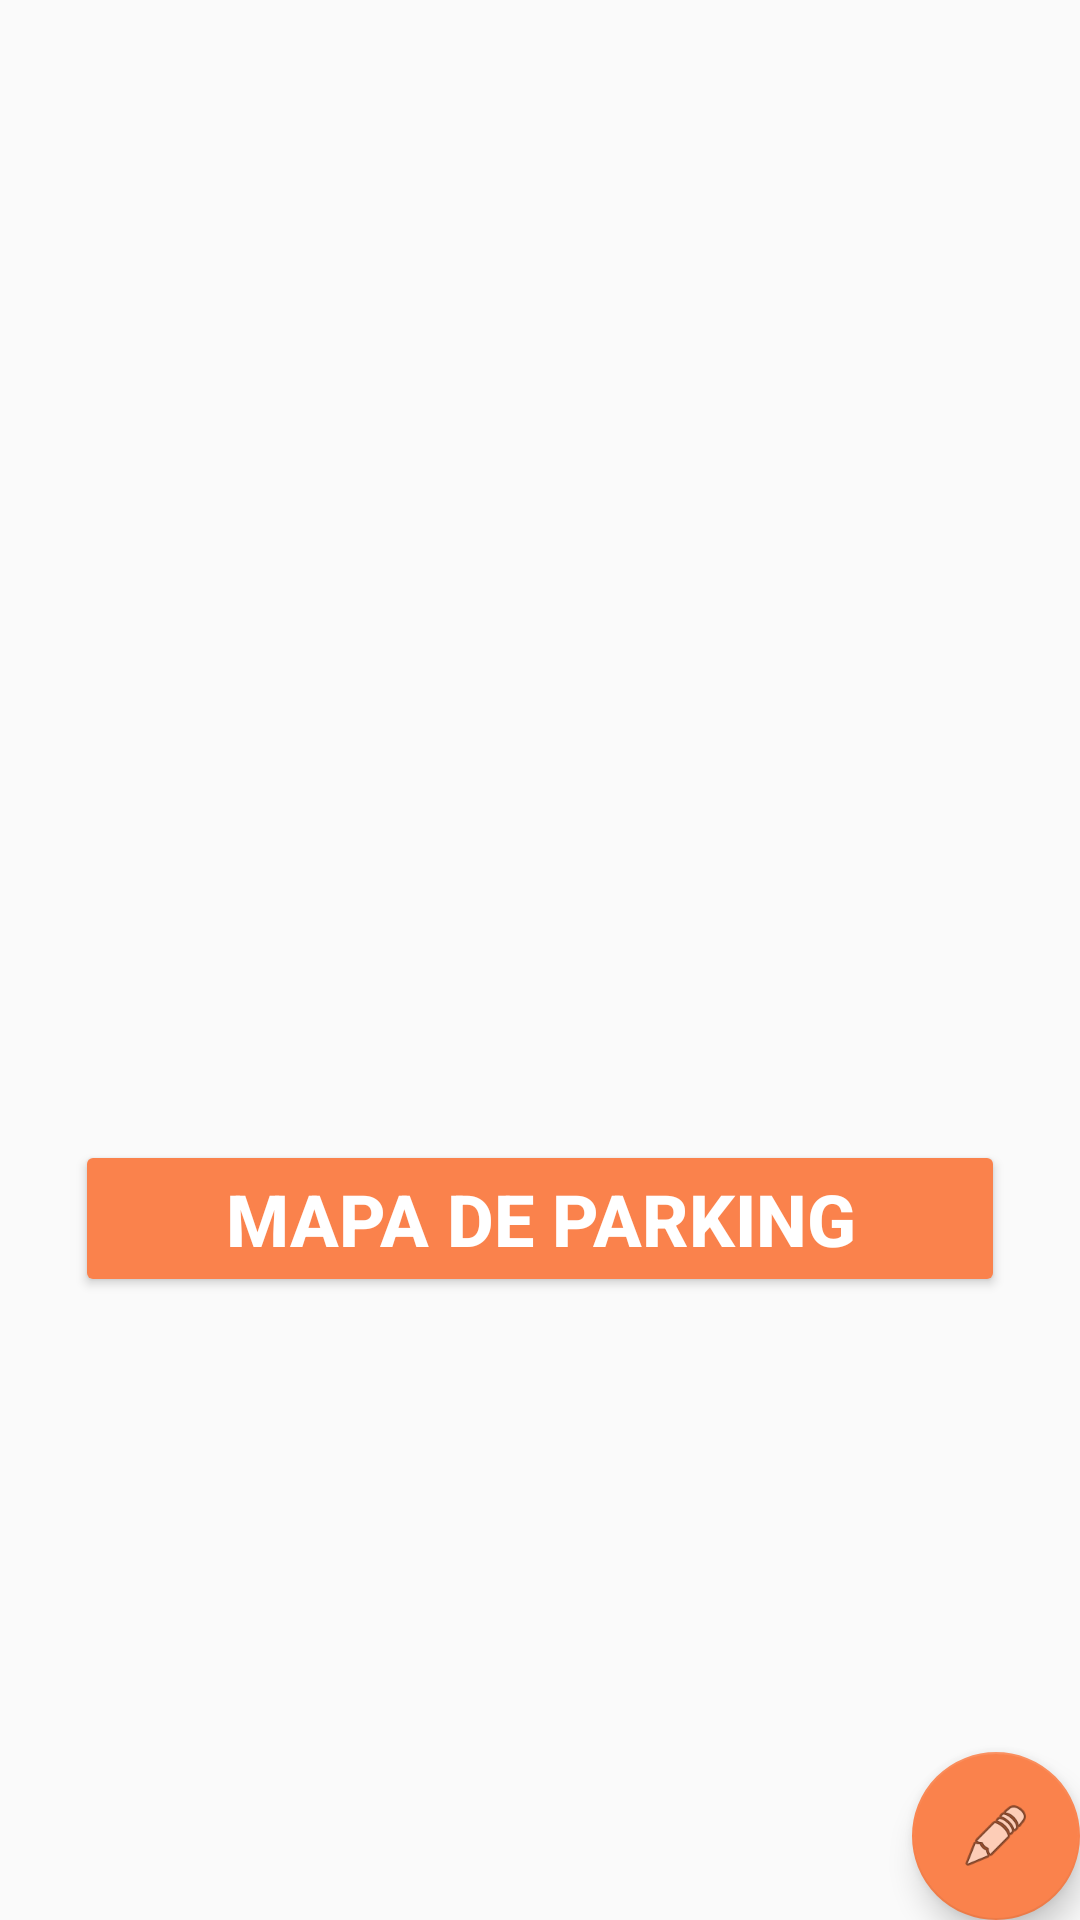

Where to tap for icons on this 1080px x 1920px app screen, as [x,y]:
edit: [996,1836]
